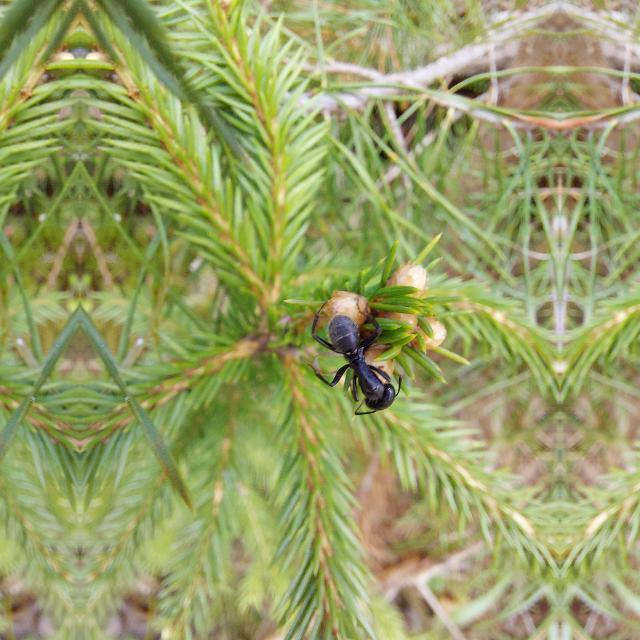Camponotus: (312, 308, 408, 414)
